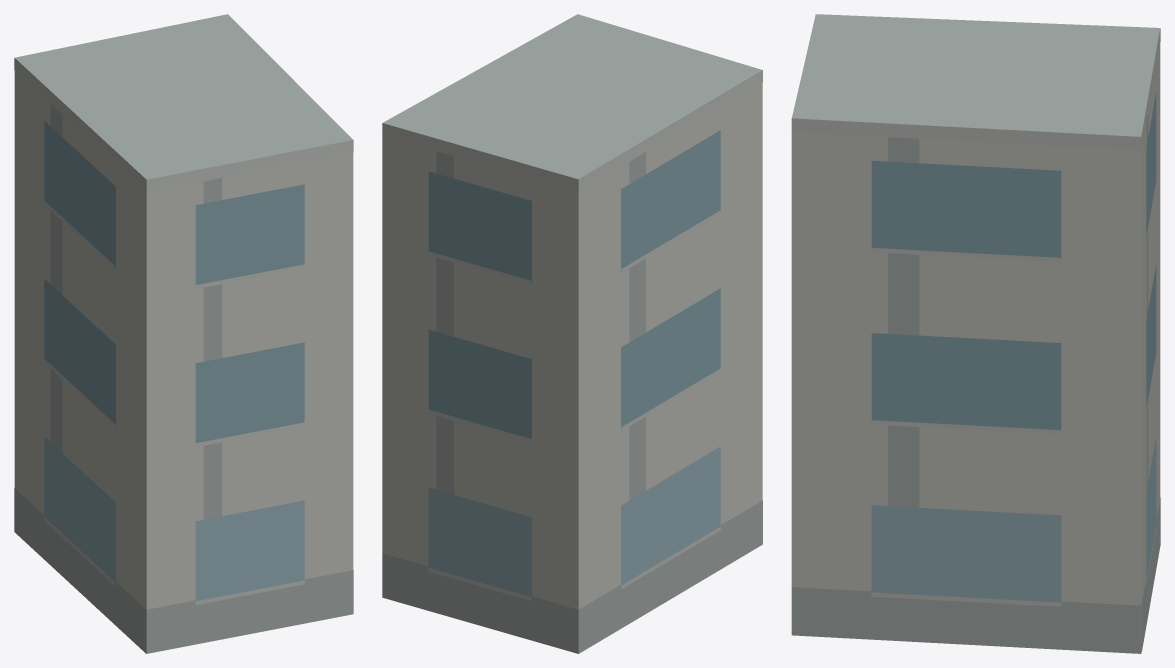
File: survey-upis-32538379.glb
The picture shows the model from 3 angles, left to right: view 1: azimuth 30°, elevation 25°; view 2: azimuth 150°, elevation 25°; view 3: azimuth 270°, elevation 25°; orthographic projection. The views are drawn at different scales.
Parts seen in each view (by area): view 1: survey-upis-32538379.tmp; view 2: survey-upis-32538379.tmp; view 3: survey-upis-32538379.tmp.
Part boxes in pixels (bbox=[...]): survey-upis-32538379.tmp: bbox=[14, 14, 353, 653]; survey-upis-32538379.tmp: bbox=[382, 14, 762, 653]; survey-upis-32538379.tmp: bbox=[791, 14, 1160, 653].
Size of the model in its own units: 4.67 by 9.15 by 5.92.
